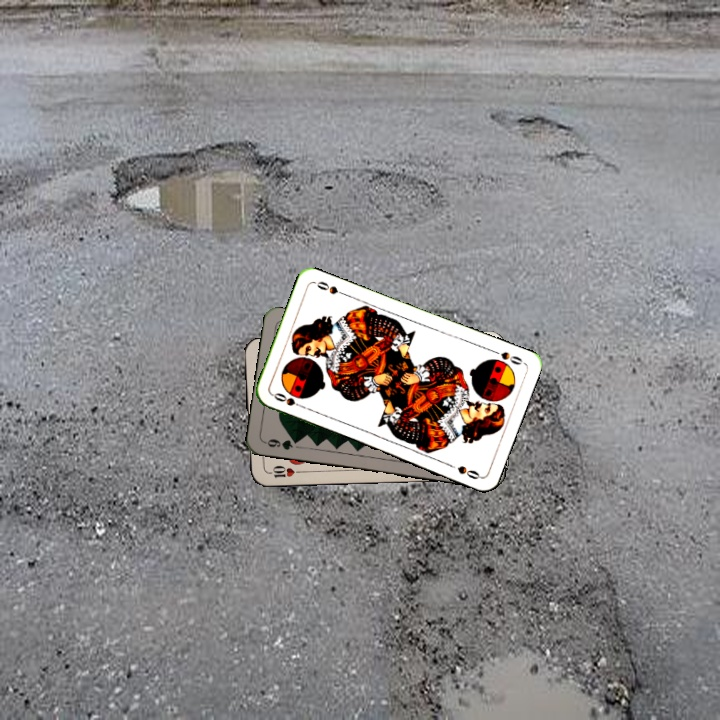G9: (261, 435, 302, 453)
H10: (264, 462, 304, 480)
SO: (268, 389, 307, 411), (487, 346, 526, 367)
